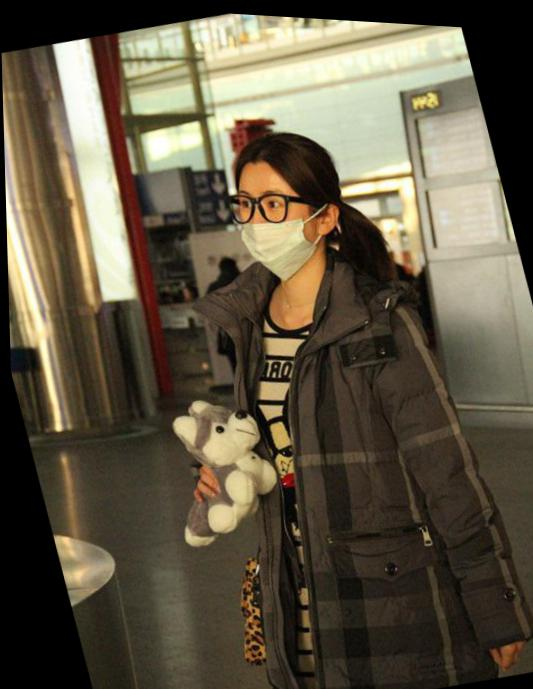WRONG: (228, 165, 318, 275)
